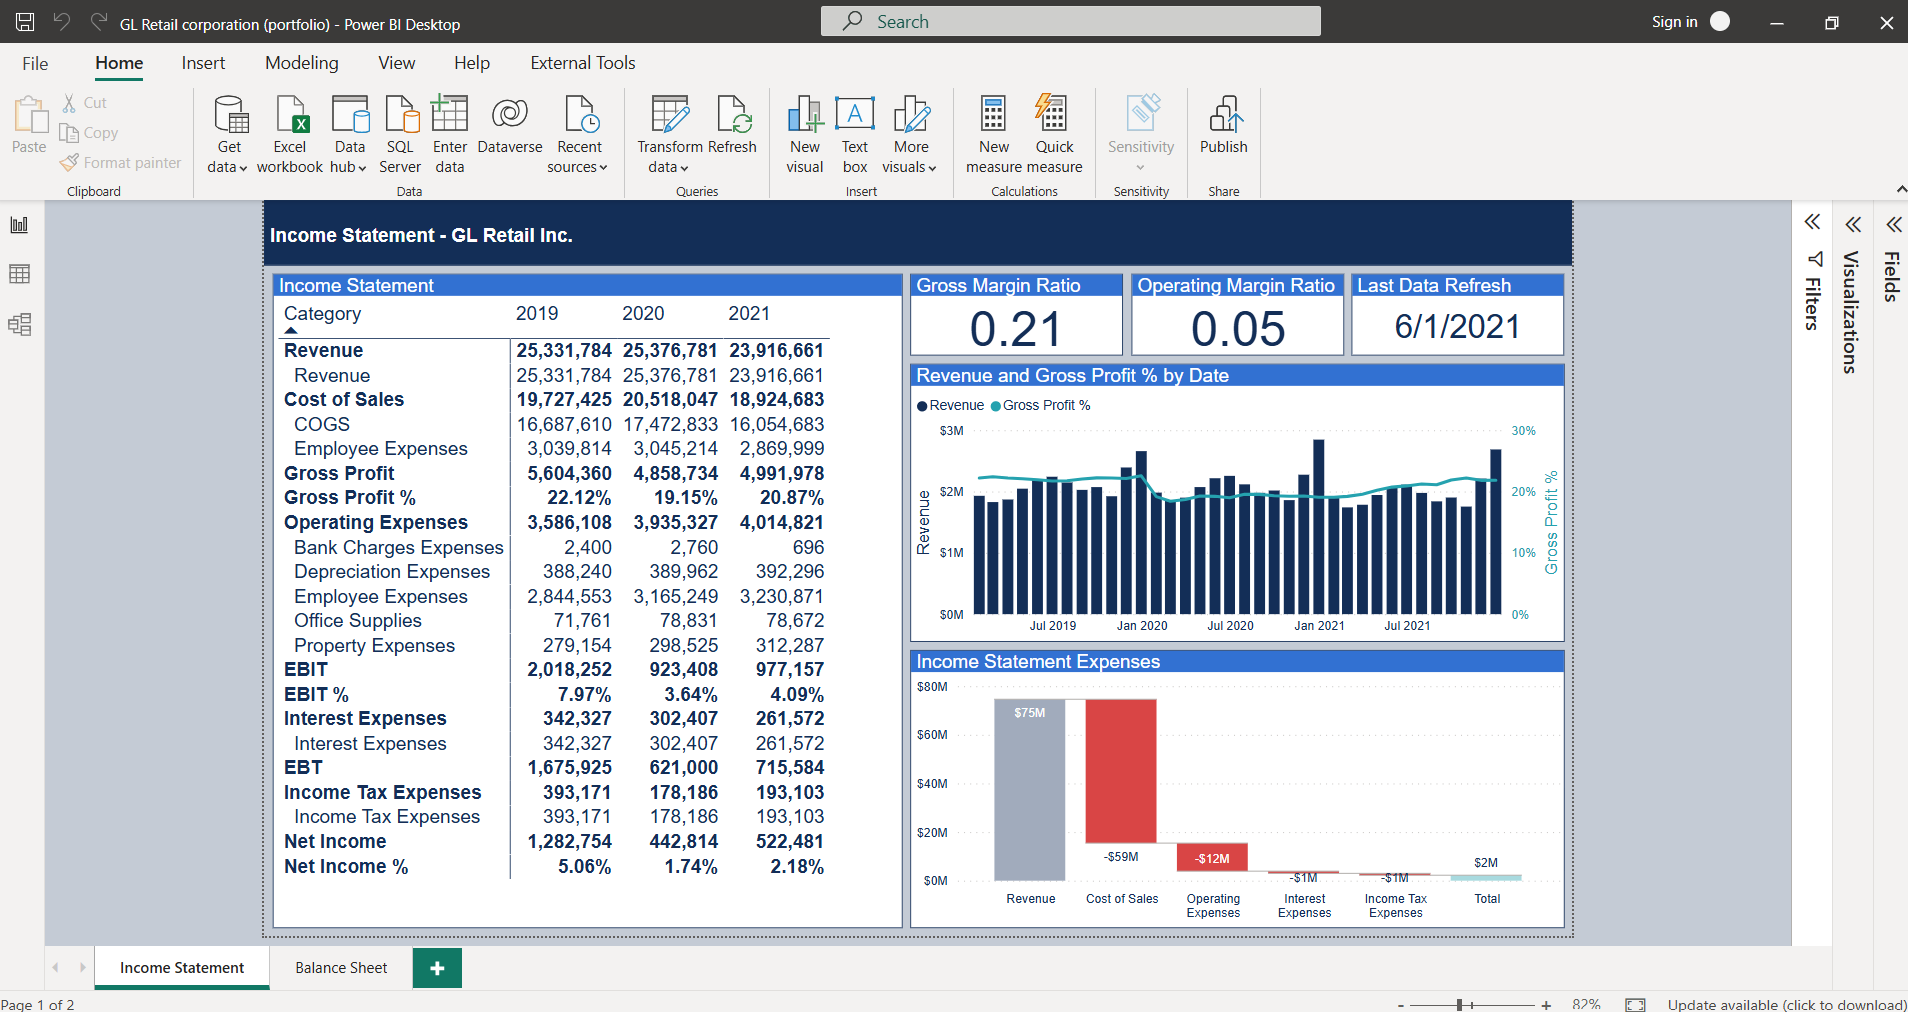

This screenshot's page, from the dashboard's own definition file:
{"tool":"powerbi","page":{"name":"Income Statement","canvas":[1280,720],"ordinal":0},"visuals":[{"type":"shape","box":[0,0,1280,64],"z":0},{"type":"pivotTable","title":"Income Statement","fields":{"Rows":["Headers.Category","GLAccts.Subcategory"],"Columns":["DimDate.Year"],"Values":["FactGLTran.Income Statement"]},"box":[8,72,616,640],"z":1000},{"type":"card","title":"Gross Margin Ratio","fields":{"Values":["FactGLTran.Gross Margin Ratio"]},"box":[632,72,208,80],"z":2000},{"type":"card","title":"Operating Margin Ratio","fields":{"Values":["FactGLTran.Operating Margin Ratio"]},"box":[848,72,208,80],"z":3000},{"type":"card","title":"Last Data Refresh","fields":{"Values":["Min(LastDataRefresh.LastDataRefresh)"]},"box":[976,576,296,80],"z":4000},{"type":"lineStackedColumnComboChart","fields":{"Category":["DimDate.Date"],"Y":["FactGLTran.Revenue"],"Y2":["FactGLTran.Gross Profit Margin %"]},"box":[632,160,640,272],"z":5000},{"type":"waterfallChart","title":"Income Statement Expenses","fields":{"Category":["DimHeaders.Category"],"Y":["FactGLTran.Sign Flip"]},"box":[632,440,640,272],"z":6000},{"type":"textbox","box":[0,0,1280,64],"z":7000},{"type":"card","title":"Last Data Refresh","fields":{"Values":["Min(LastDataRefresh.LastDataRefresh)"]},"box":[1064,72,208,80],"z":8000}]}

Visuals, with their boxes on the page's 1280x720 design canvas (x1, y1, x2, y2). These are canvas units, not pixel positions in the 1908x1012 screenshot, which may show the page scaled, cropped or inside an application window:
shape: box=[0, 0, 1280, 64]
"Income Statement" pivotTable: box=[8, 72, 624, 712]
"Gross Margin Ratio" card: box=[632, 72, 840, 152]
"Operating Margin Ratio" card: box=[848, 72, 1056, 152]
"Last Data Refresh" card: box=[976, 576, 1272, 656]
lineStackedColumnComboChart - DimDate.Date x FactGLTran.Revenue: box=[632, 160, 1272, 432]
"Income Statement Expenses" waterfallChart: box=[632, 440, 1272, 712]
textbox: box=[0, 0, 1280, 64]
"Last Data Refresh" card: box=[1064, 72, 1272, 152]
